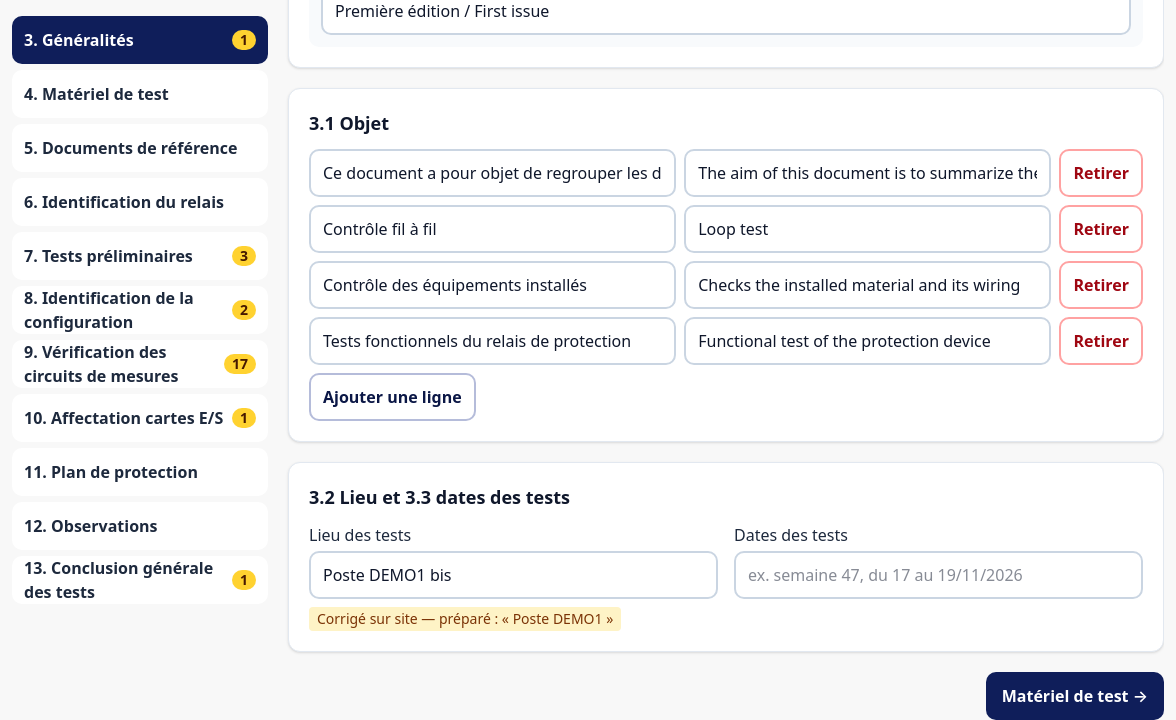
Test: PvEditor › repère une valeur préparée corrigée sur site et navigue entre sections
(page scrolled)
Expected: the text "Corrigé sur site — préparé : « Poste DEMO1 »" is shown, [309,607,621,631]
Click the button "Matériel de test →": (1075, 696) [986,672,1164,719]
(page scrolled)
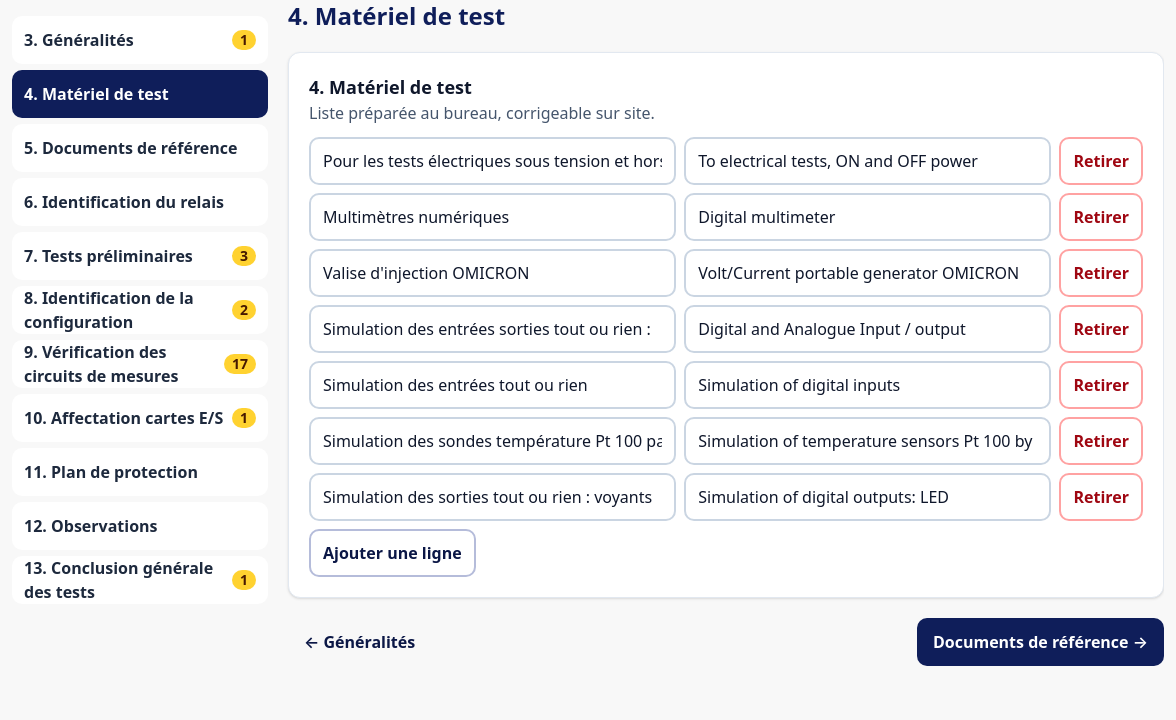
Now the 1st heading "4. Matériel de test" is shown, box [288,0,505,32]
